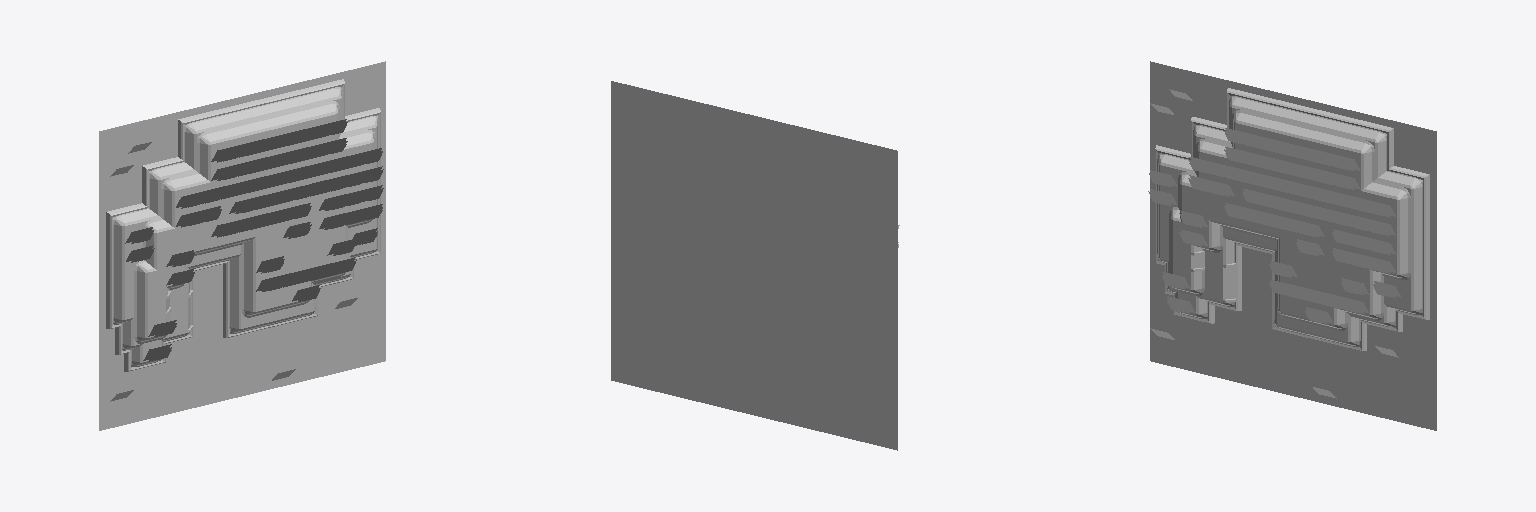
File: Plat_full_00_02.obj
3 views of the same model, side by side, from view 1: azimuth 30°, elevation 25°; view 2: azimuth 150°, elevation 25°; view 3: azimuth 330°, elevation 25° (orthographic).
Parts seen in each view (by area): view 1: map; view 2: map; view 3: map.
Part boxes in pixels (x1,y1,x2,y2): map: (99,61,385,430); map: (611,81,899,450); map: (1148,61,1436,430).
Size of the model in its own units: 32 by 32 by 5.14.